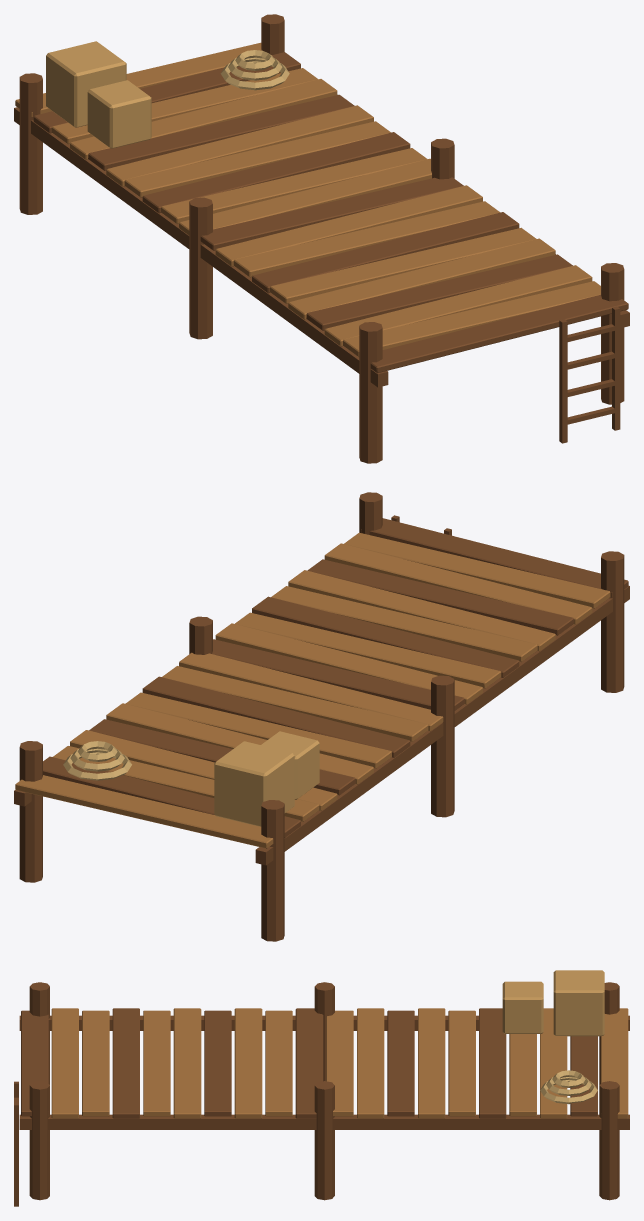
The model's file is vil_dock_v01.glb.
3 views of the same model, one above another, from view 1: azimuth 30°, elevation 25°; view 2: azimuth 150°, elevation 25°; view 3: azimuth 270°, elevation 25° (orthographic). The views are drawn at different scales.
Visible parts, largest first — view 1: dock; view 2: dock; view 3: dock.
Boxes of the visible parts, x1=… form: dock: x1=14, y1=14, x2=629, y2=463; dock: x1=14, y1=492, x2=629, y2=941; dock: x1=14, y1=970, x2=629, y2=1206.
Size of the model in its own units: 2.5 by 1.58 by 6.06.
